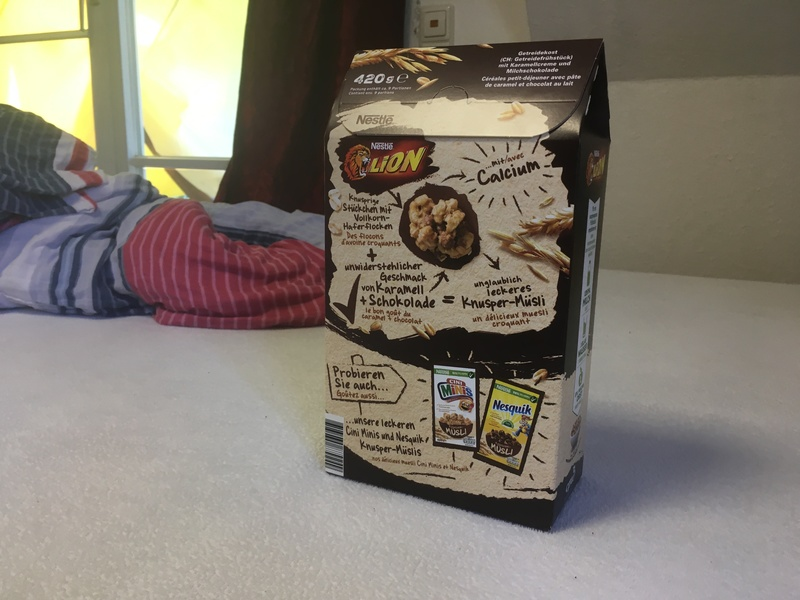cereals: (323, 39, 610, 530)
